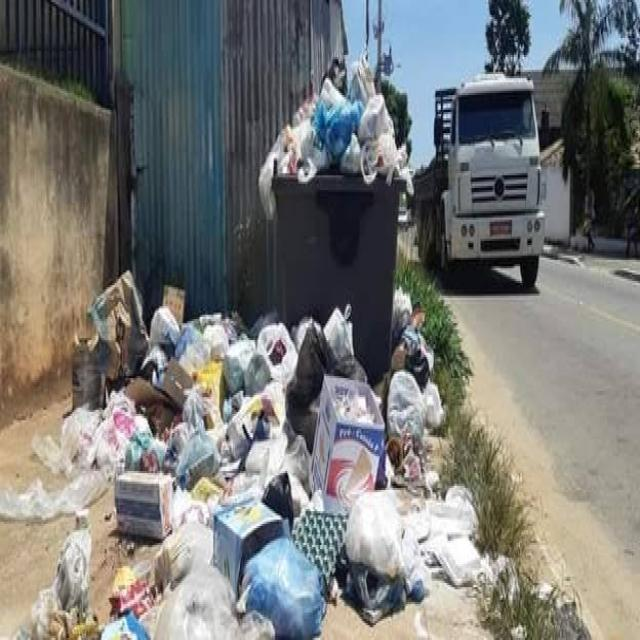garbage: (28, 270, 467, 640), (264, 56, 406, 190)
